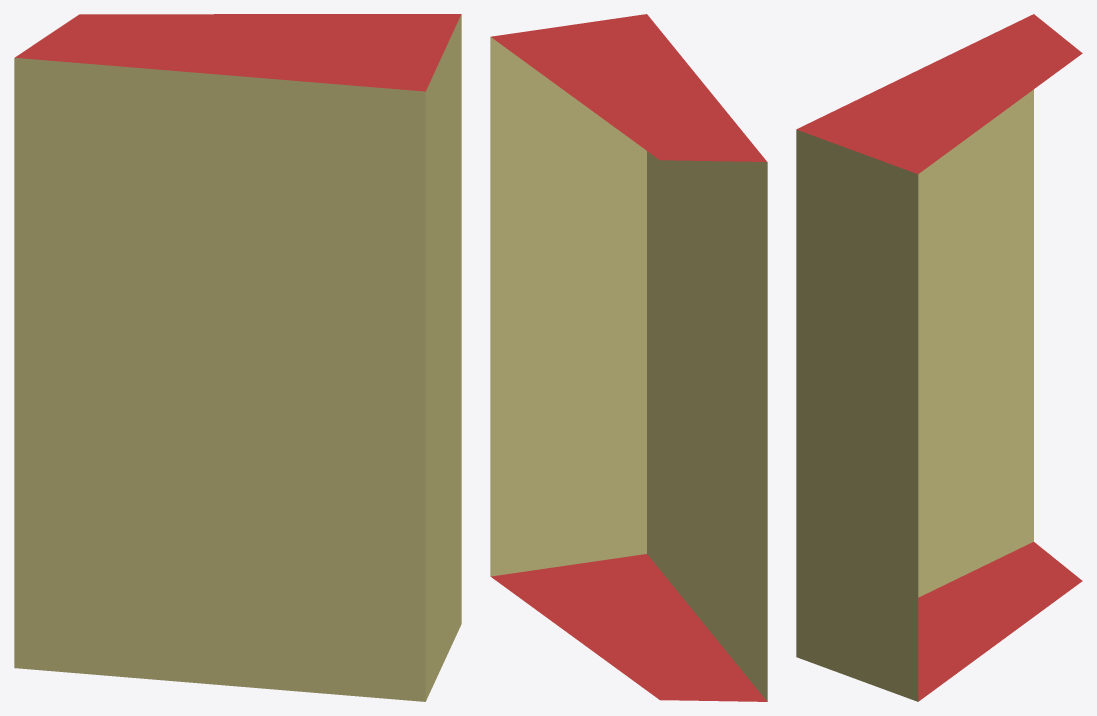
3 renders of one model, left to right at view 1: azimuth 30°, elevation 25°; view 2: azimuth 150°, elevation 25°; view 3: azimuth 270°, elevation 25°, orthographic. The views are drawn at different scales.
Size of the model in its own units: 3.87 by 2.93 by 5.94.
